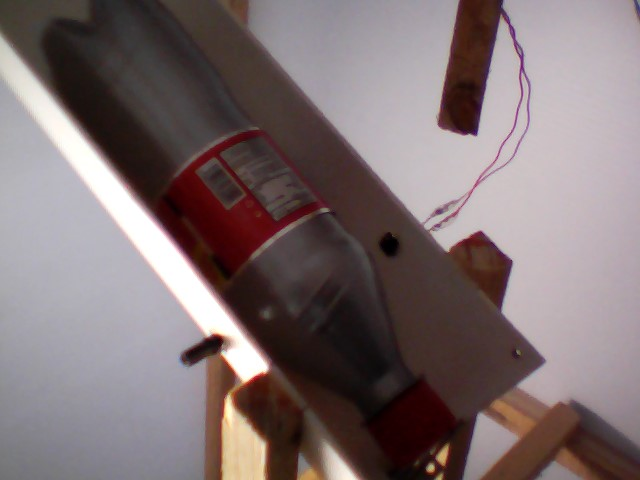plastico: (32, 1, 462, 472)
